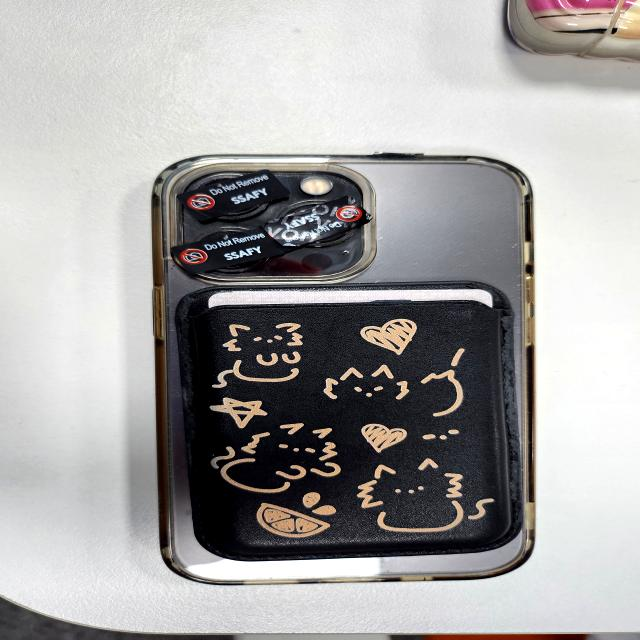phone: (146, 152, 536, 579)
removed_sticker: (266, 200, 380, 245)
sticker: (178, 172, 286, 217), (172, 232, 280, 272)
